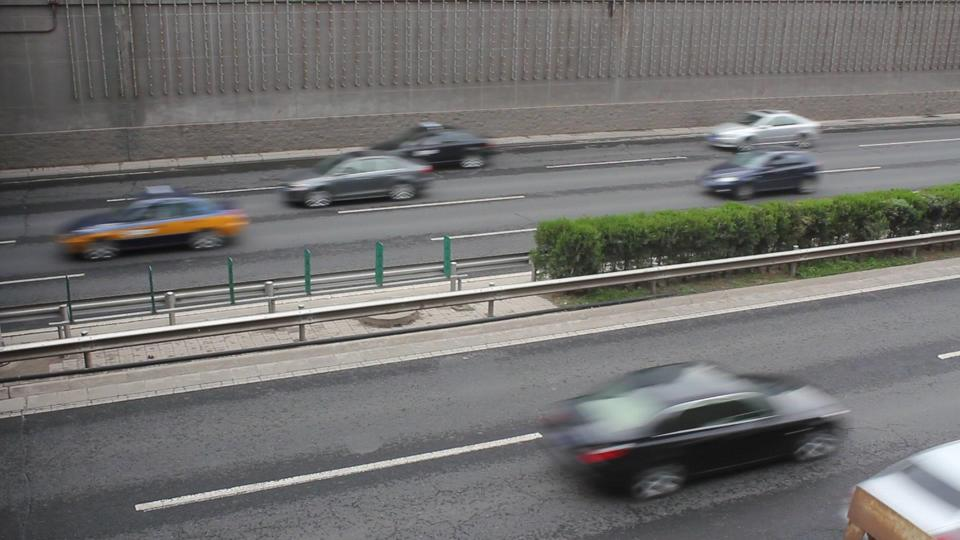car: (533, 360, 854, 502), (54, 193, 250, 262), (841, 439, 960, 540), (322, 120, 497, 172), (276, 155, 440, 208), (701, 121, 822, 184), (696, 151, 822, 200), (705, 110, 820, 152)
